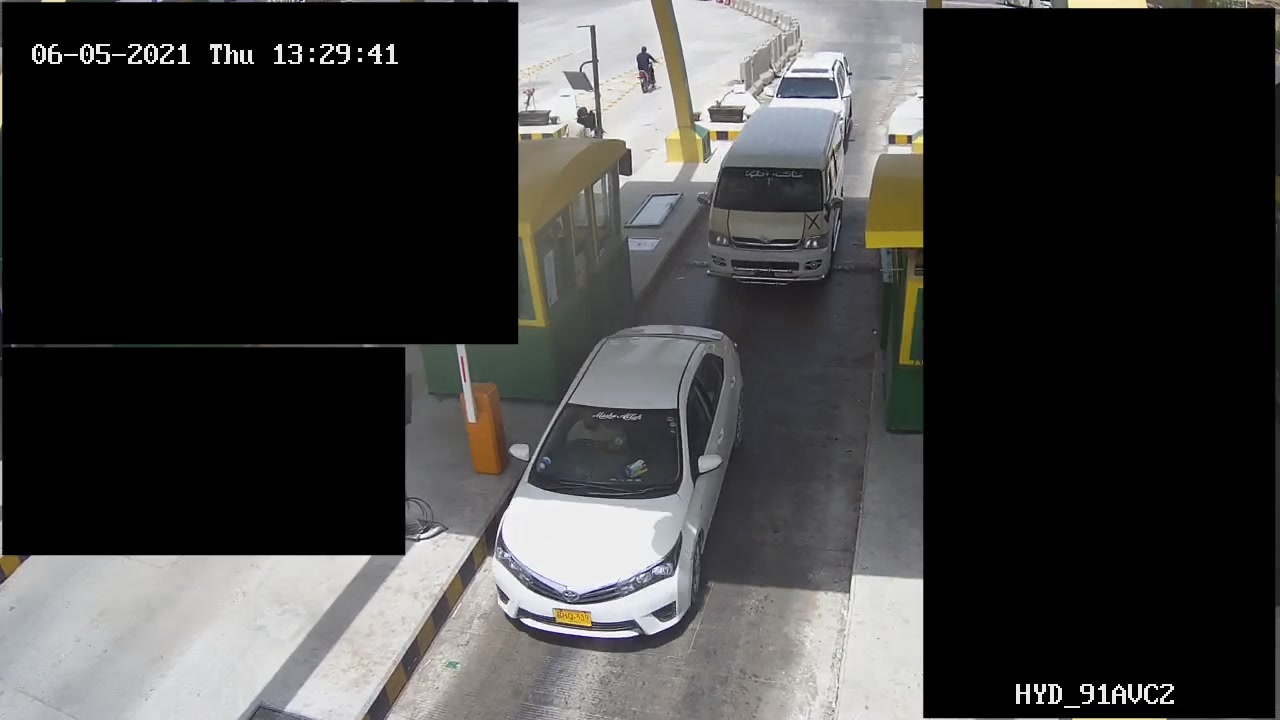F2: (694, 106, 856, 291)
